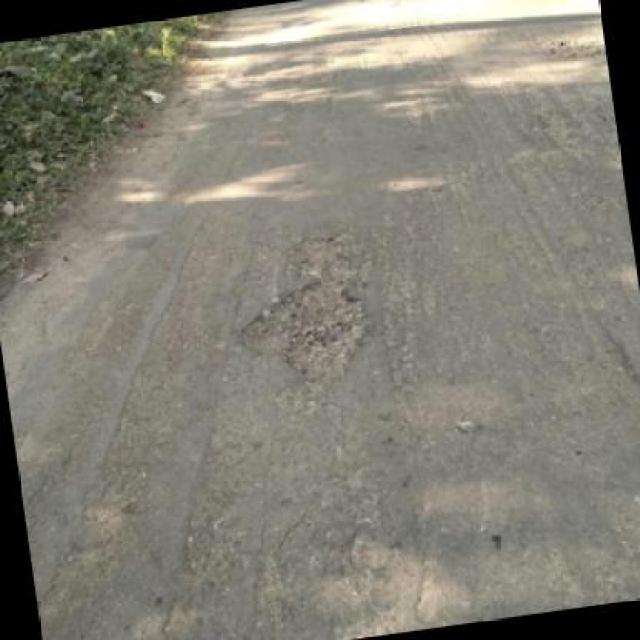pothole1: (222, 226, 382, 397), (516, 18, 604, 72)
